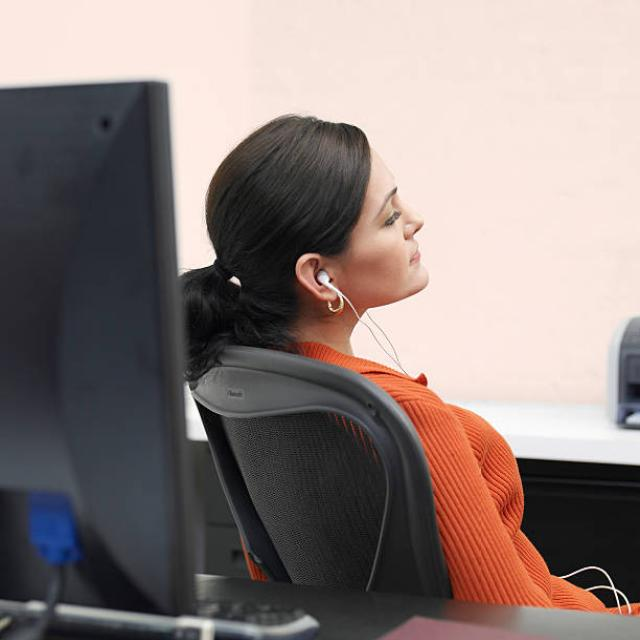Earphone: (316, 268, 432, 379)
